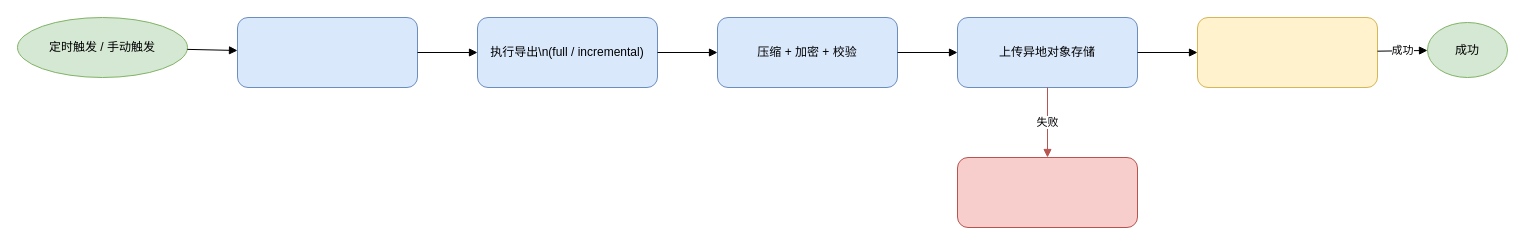
Some shapes in this 1525 by 245 pixel diagram are drawn without their labels. The centre of each missing label's shape, as x and y in pixels:
"加载备份策略\n(连接/库表/模式)" belongs at point (327, 52).
"失败告警\n(Telegram/Webhook)" belongs at point (1047, 192).
"记录元数据与日志" belongs at point (1287, 52).
